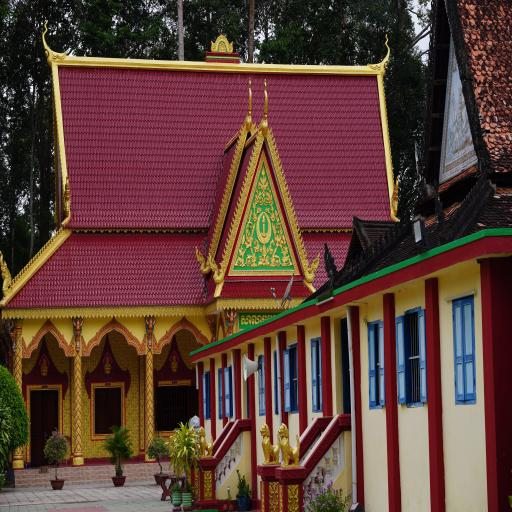lua: (40, 18, 67, 64), (372, 29, 394, 79), (256, 74, 271, 139), (244, 75, 256, 133)
ran: (431, 178, 450, 243), (321, 242, 338, 290), (0, 249, 14, 306), (58, 174, 76, 215), (206, 252, 226, 288), (390, 172, 404, 222), (194, 244, 208, 276), (306, 254, 318, 280)
than: (70, 314, 86, 356), (144, 314, 158, 353), (5, 316, 18, 352), (205, 311, 219, 343), (226, 307, 238, 337), (1, 323, 11, 353), (102, 354, 113, 375), (40, 355, 49, 378), (0, 333, 6, 363), (169, 352, 178, 372)
